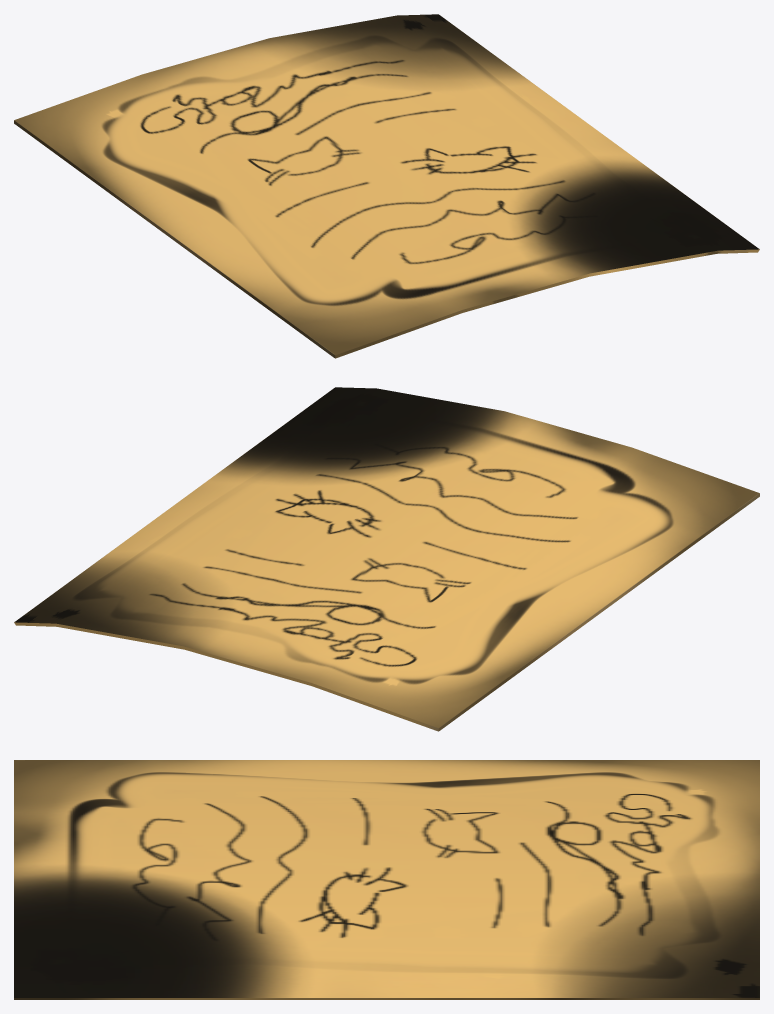
Rendered from Page1.fbx.
3 views of the same model, one above another, from view 1: azimuth 30°, elevation 25°; view 2: azimuth 150°, elevation 25°; view 3: azimuth 270°, elevation 25° (orthographic). The views are drawn at different scales.
Parts seen in each view (by area): view 1: Page1; view 2: Page1; view 3: Page1.
Boxes of the visible parts, x1,y1,x2,y2 form: Page1: (14,14,759,358); Page1: (14,387,759,731); Page1: (14,760,759,999).
Bounding box in the file's own units: 18.33 × 0.9496 × 24.01.
